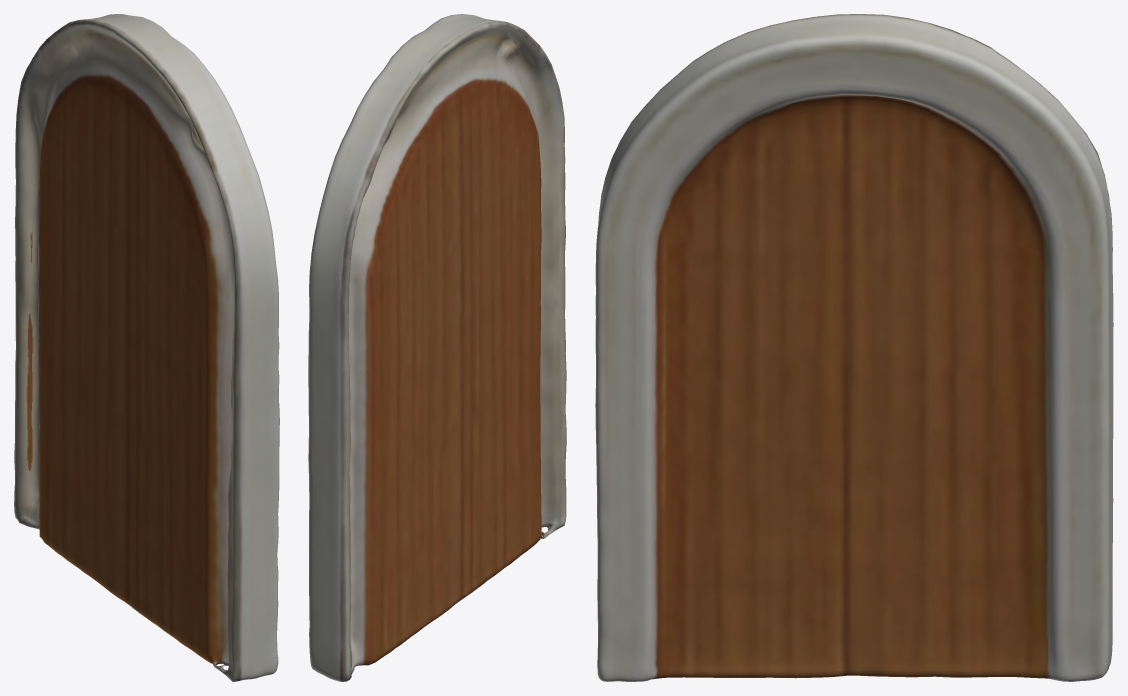
File: e8be42a9bcb2_arched_wooden_door_.fbx
The picture shows the model from 3 angles, left to right: view 1: azimuth 30°, elevation 25°; view 2: azimuth 150°, elevation 25°; view 3: azimuth 270°, elevation 25°; orthographic projection. The views are drawn at different scales.
Visible parts, largest first — view 1: mesh; view 2: mesh; view 3: mesh.
Part boxes in pixels (x1,y1,x2,y2): mesh: (14, 14, 279, 681); mesh: (308, 14, 566, 681); mesh: (595, 14, 1113, 681).
Size of the model in its own units: 8.37 by 99.88 by 72.06.
